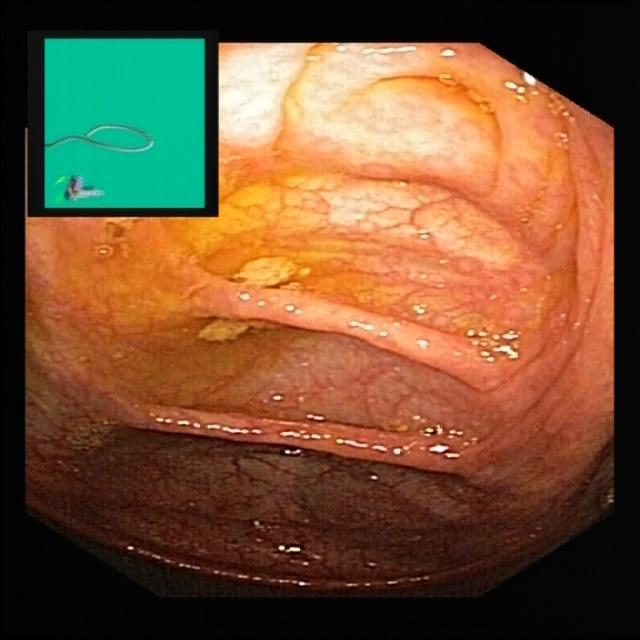normal-cecum: (45, 153, 421, 433)
